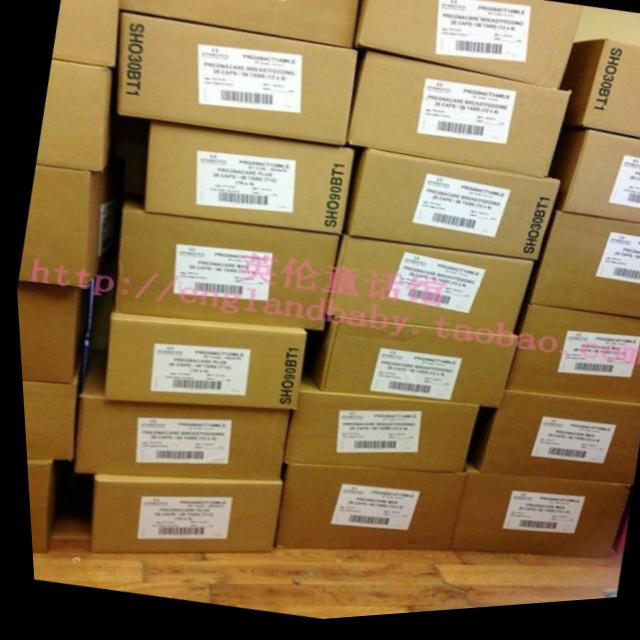box: (110, 165, 335, 335), (116, 13, 358, 151), (346, 54, 566, 185), (70, 353, 281, 484), (340, 155, 555, 266), (144, 126, 350, 241), (352, 0, 581, 98), (321, 240, 531, 342), (98, 312, 298, 416), (280, 373, 473, 479), (445, 457, 626, 566), (308, 319, 515, 414), (272, 465, 457, 557), (82, 471, 276, 555), (471, 400, 639, 493), (498, 314, 640, 414), (521, 218, 640, 326), (121, 0, 361, 50), (14, 166, 107, 288), (543, 138, 640, 234), (33, 63, 117, 172), (555, 48, 640, 148), (13, 283, 82, 382), (18, 371, 74, 460), (50, 0, 118, 70), (21, 458, 52, 553)
